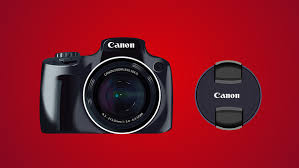camera: (40, 39, 171, 131)
